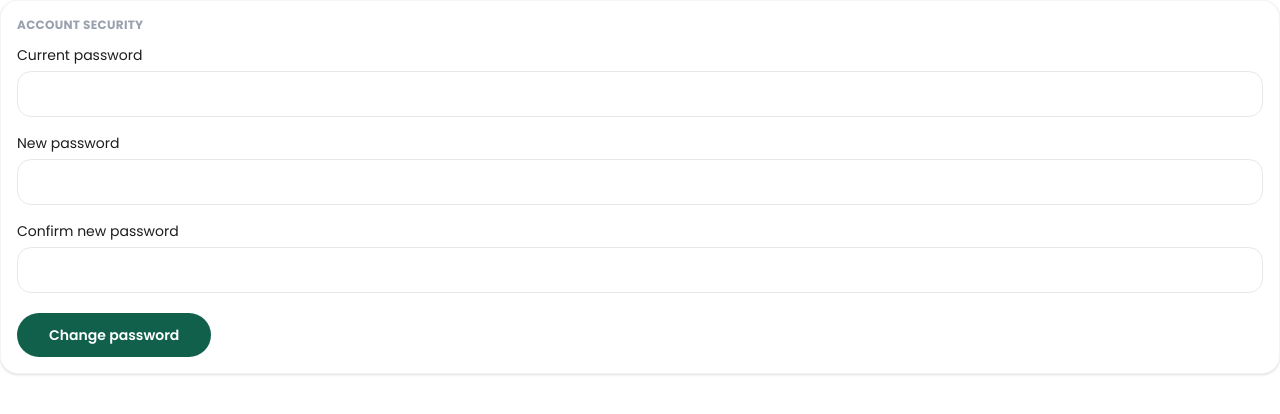
Scenario: ChangePasswordForm › flags mismatched confirmation
The image size is (1280, 414).
Type "OldPass1!" into the password field below "Current password". click: (640, 94)
box: x1=17 y1=71 x2=1263 y2=117
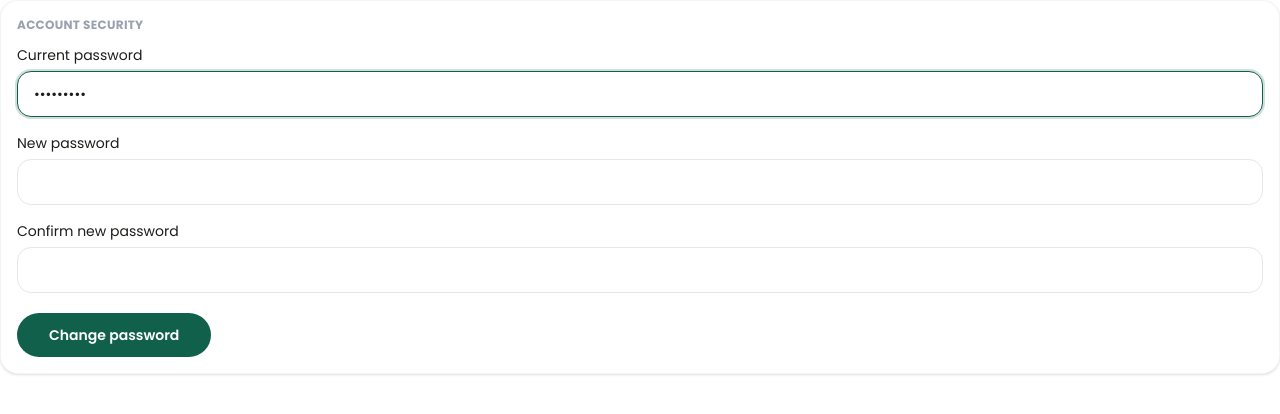
Type "Abcdef1!" into the 2nd password field. click: (640, 182)
box: x1=17 y1=159 x2=1263 y2=205
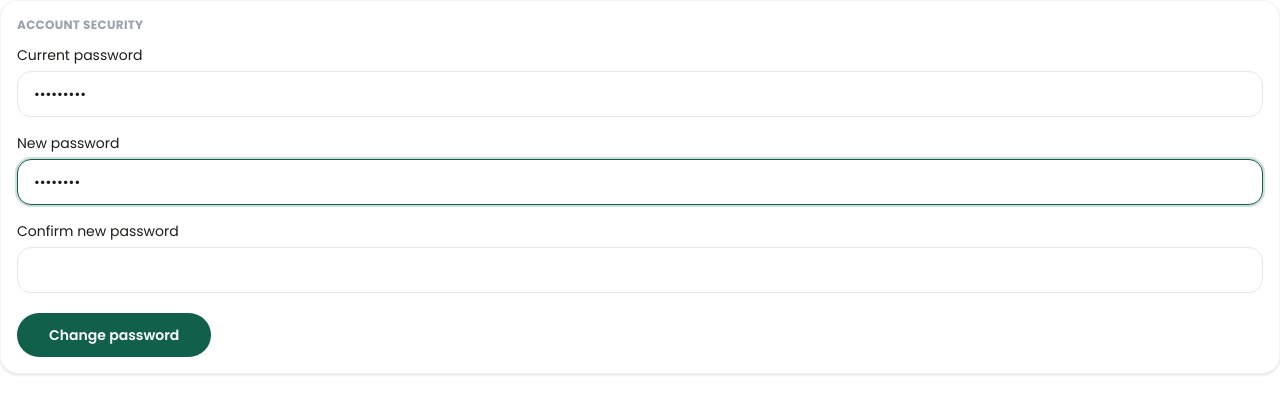
Type "Different1!" into the password field below "Confirm new password". click: (640, 270)
box: x1=17 y1=247 x2=1263 y2=293
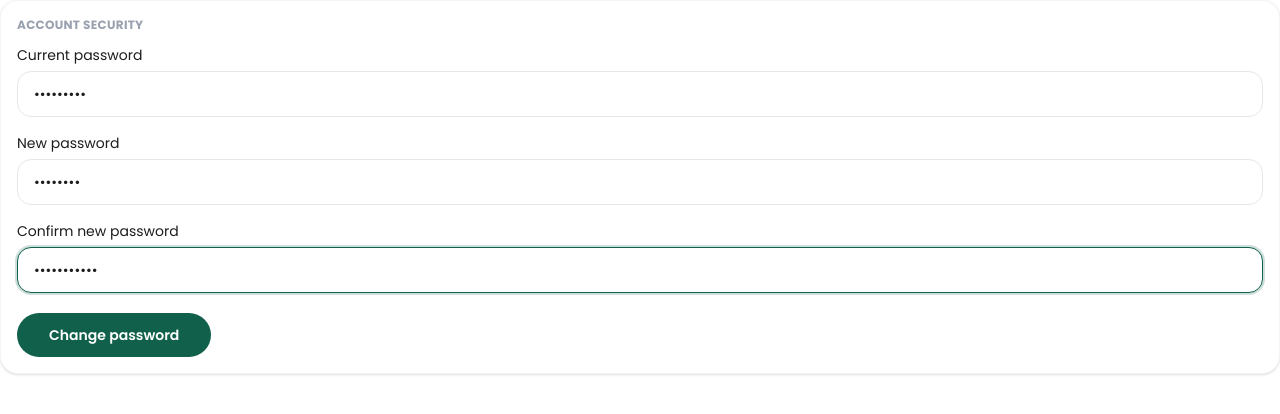
Click the button "Change password". click: (114, 335)
box: x1=17 y1=313 x2=211 y2=357
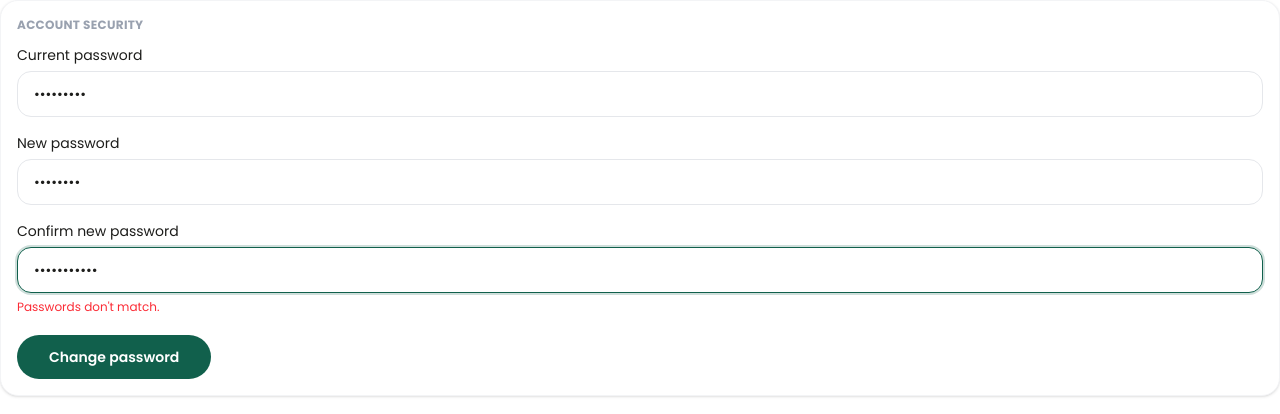
Now the text "Passwords don't match." is shown, box x1=17 y1=298 x2=160 y2=315
